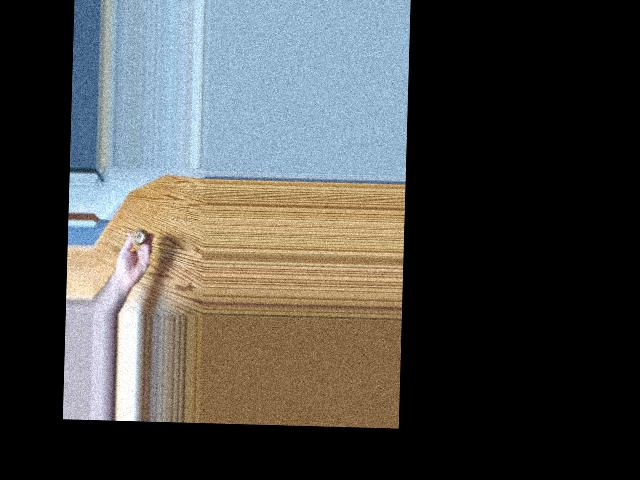sweet_potato: (128, 224, 145, 245)
